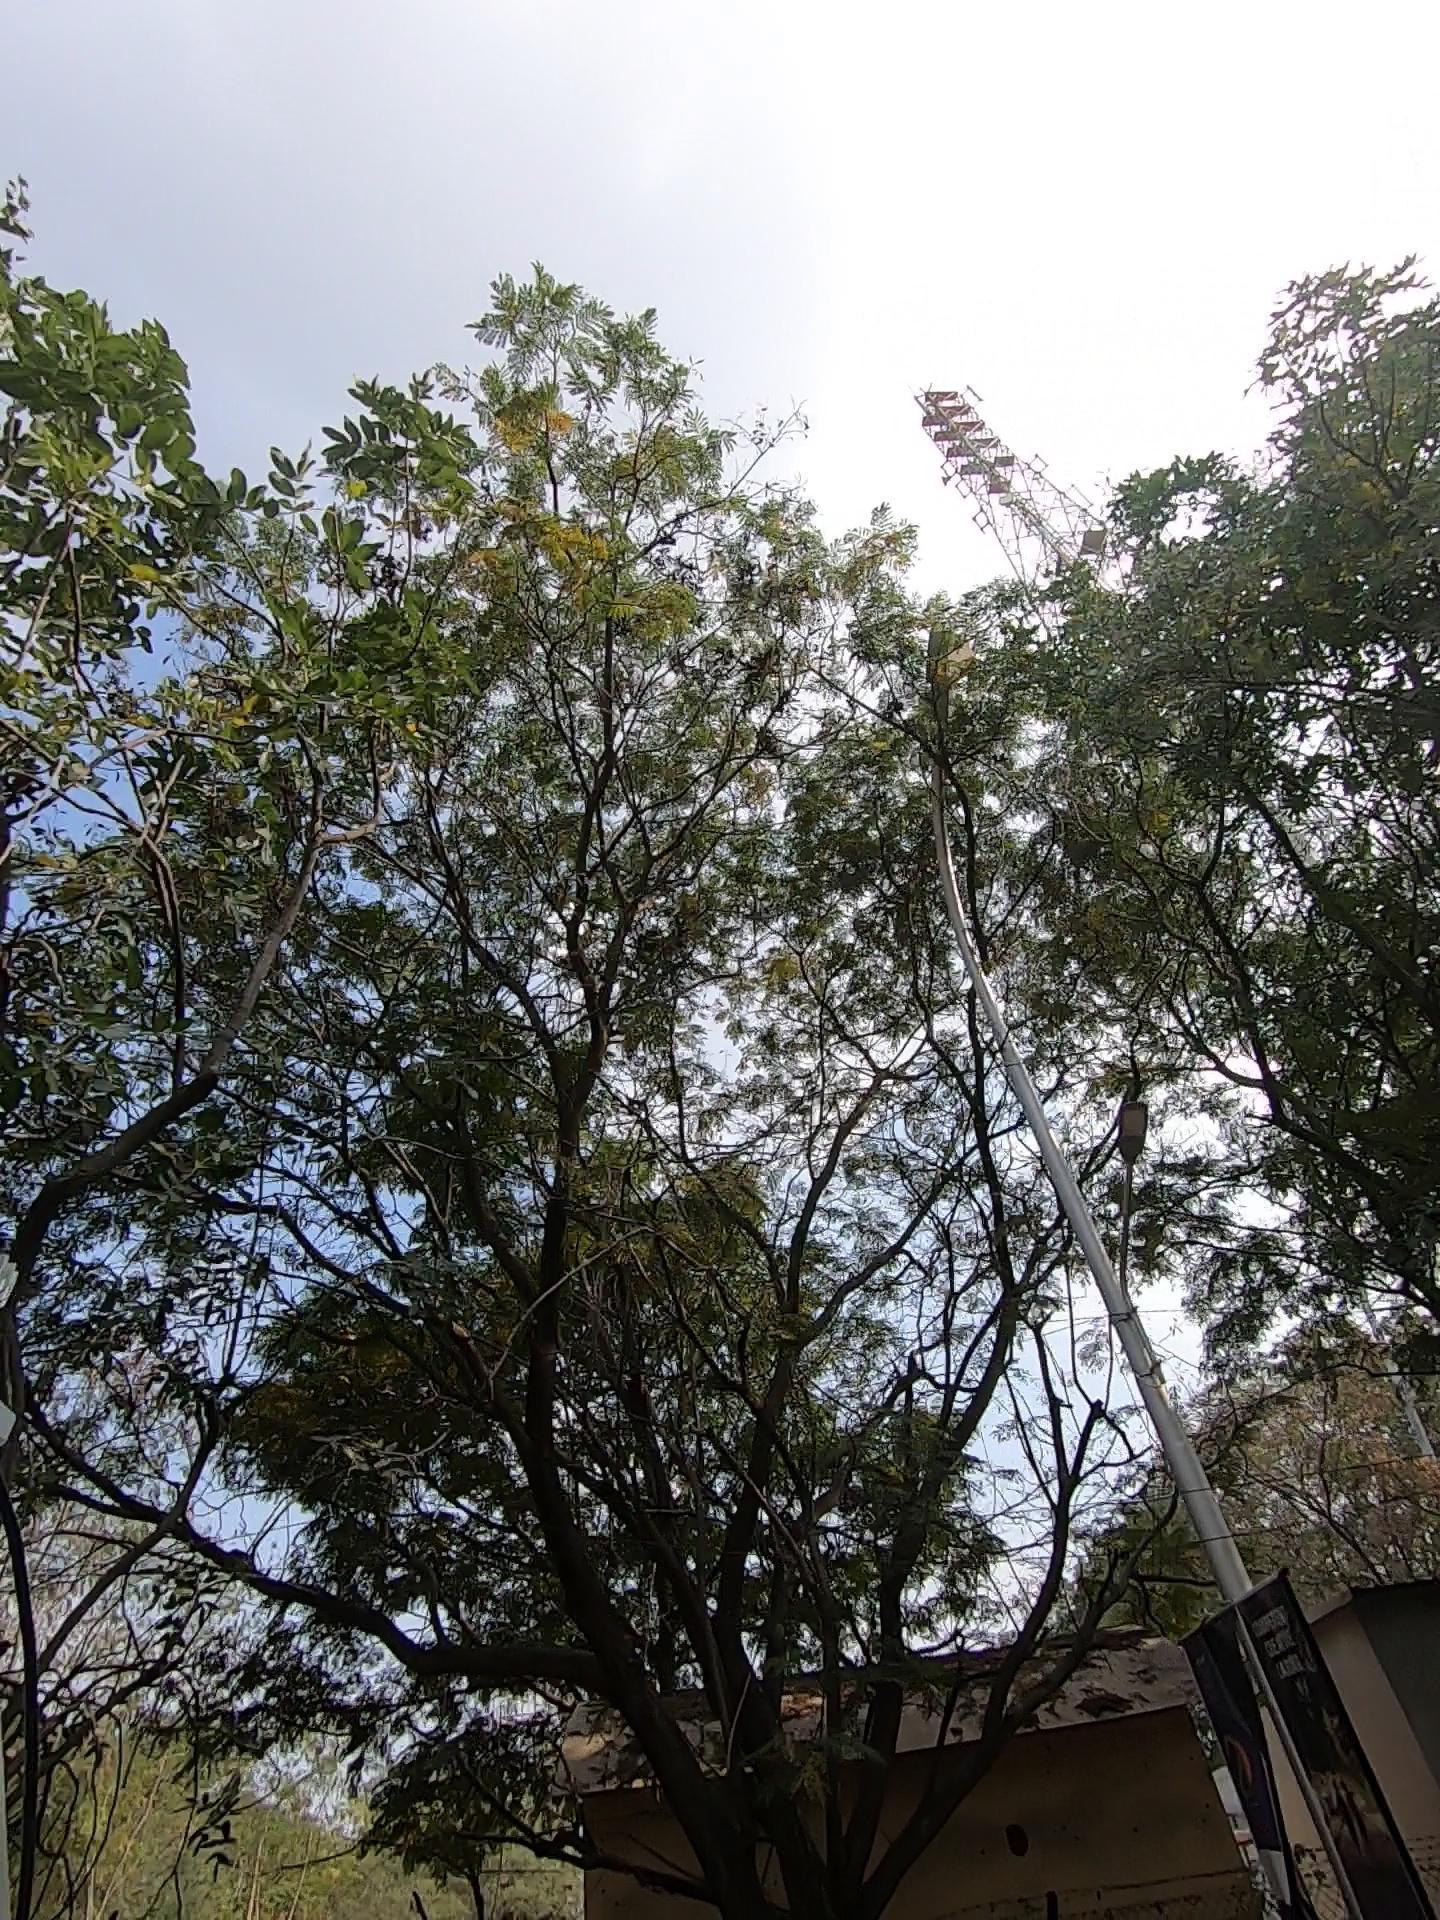off: (877, 544, 1066, 856)
